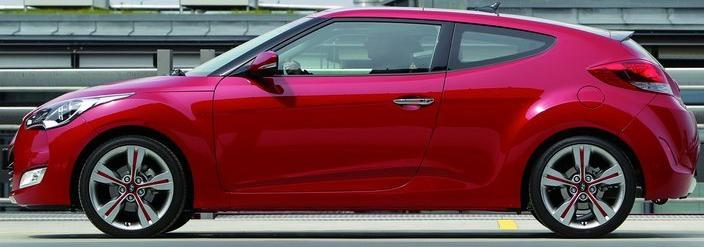backlight: (591, 45, 673, 96)
headlight: (25, 89, 142, 140)
side_glass: (263, 15, 454, 84)
